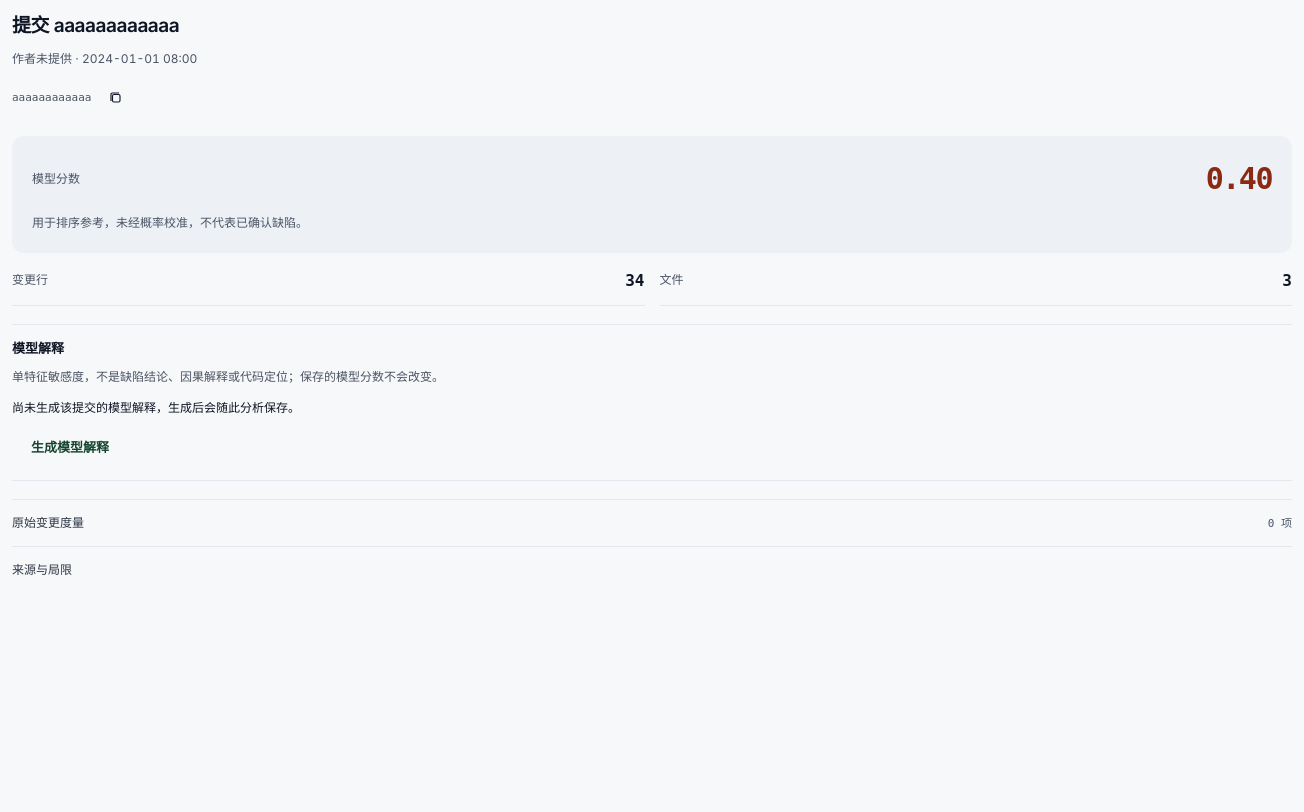
reads without inferring and generates a pinned model explanation only after a click
Click the button "生成模型解释" at (70, 448), box x1=12 y1=430 x2=128 y2=466
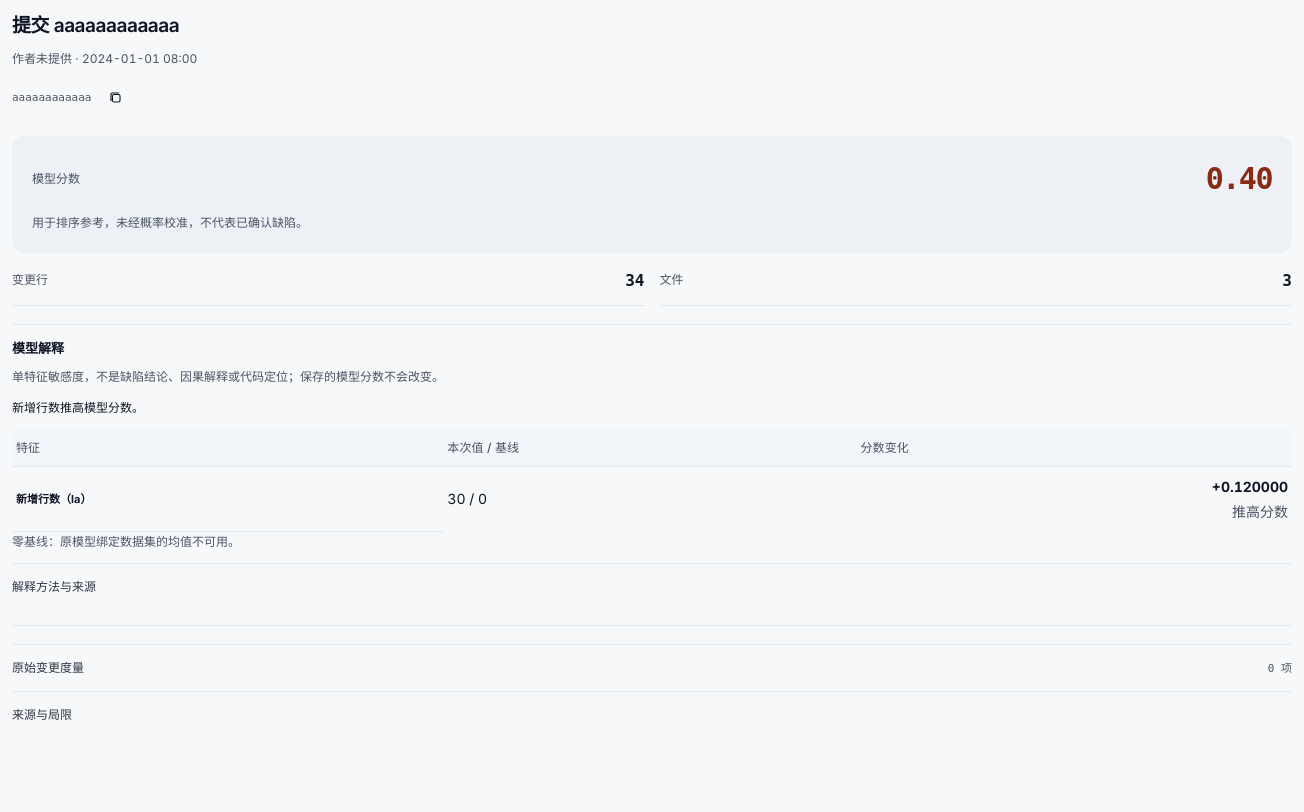
Expected: the text "新增行数推高模型分数。" is shown, x1=12 y1=400 x2=144 y2=415
Expected: the column heading "新增行数（la）" is shown, x1=12 y1=467 x2=443 y2=532
Expected: the text "+0.120000" is shown, x1=1212 y1=478 x2=1288 y2=495
